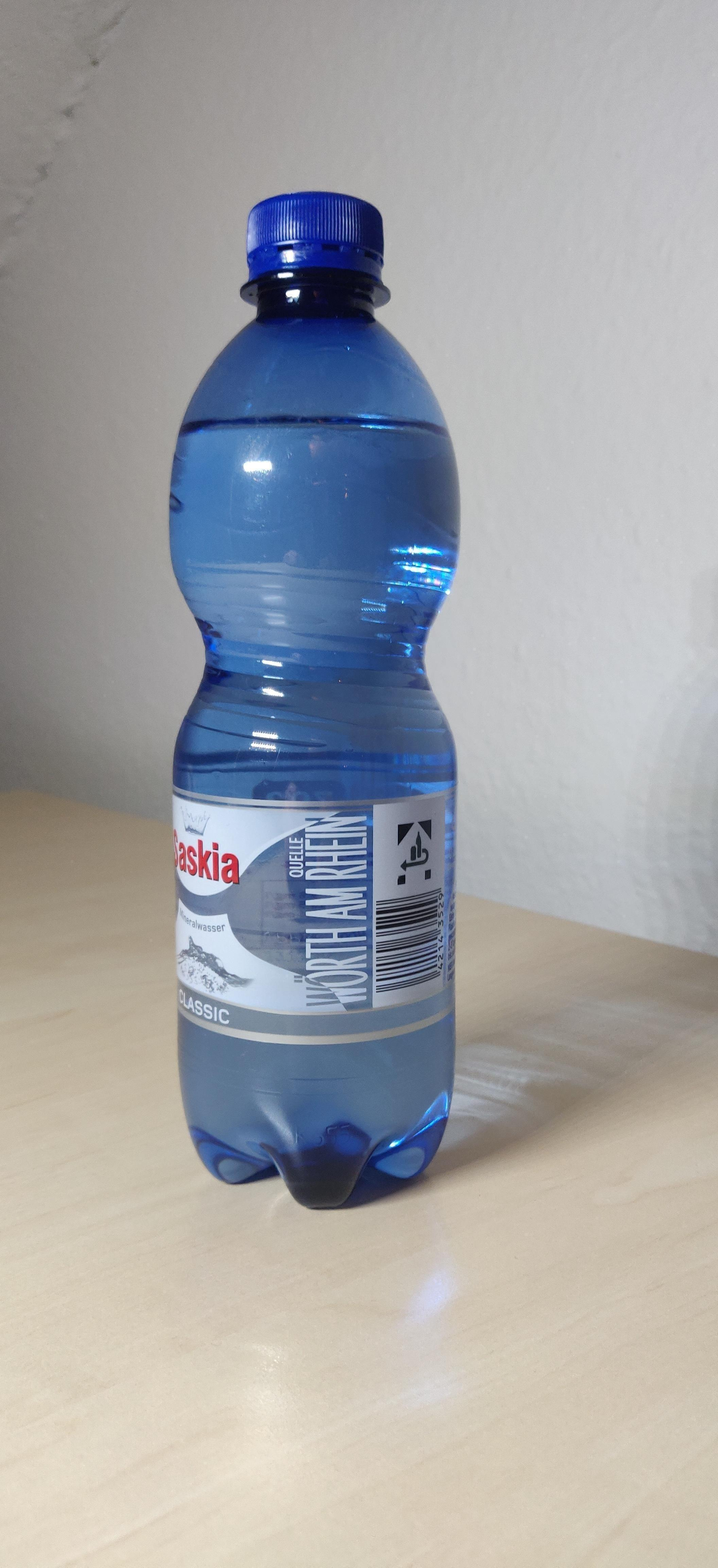bottle-plastic: (170, 187, 460, 1210)
